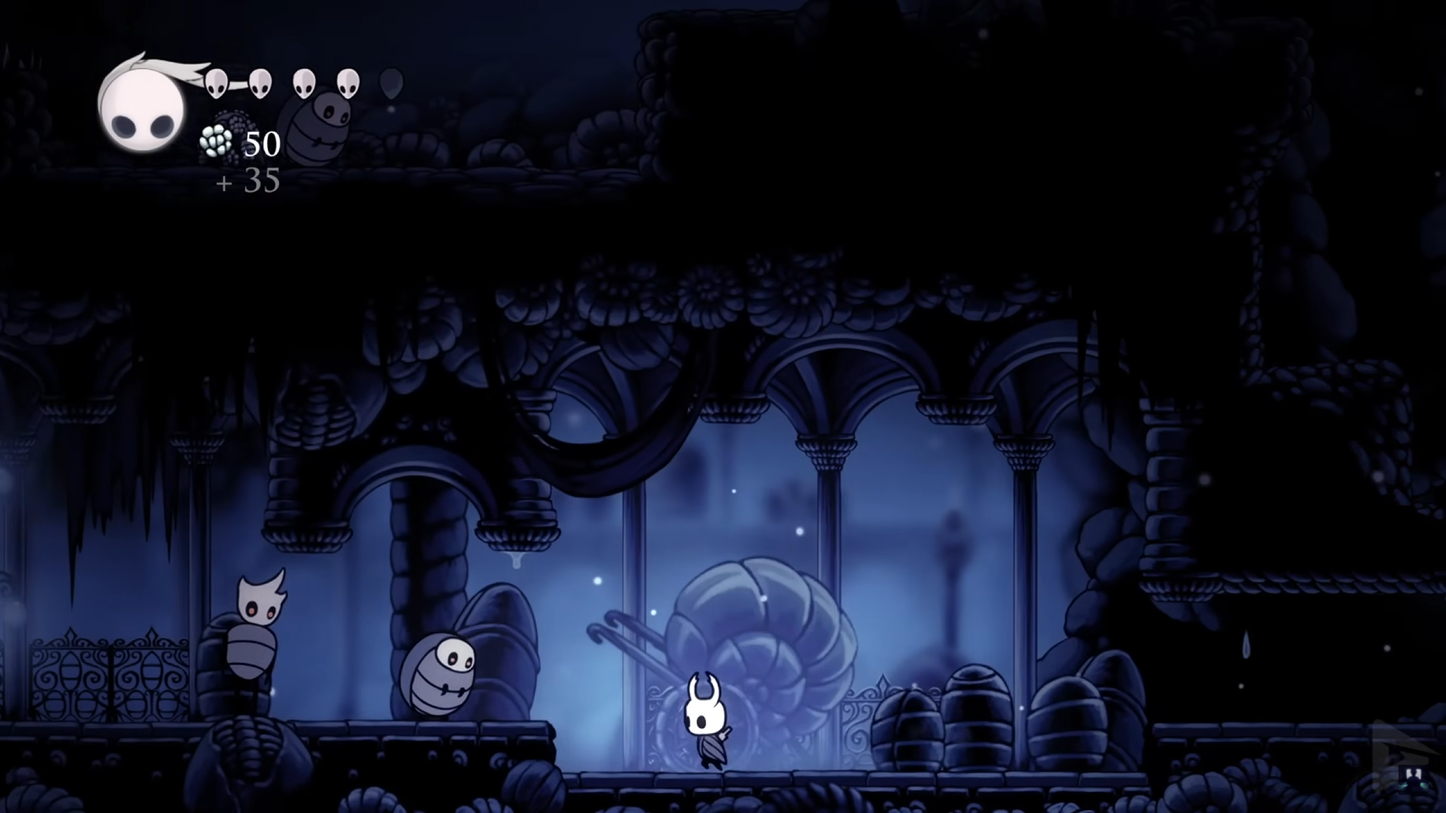HK: (679, 670, 735, 772)
